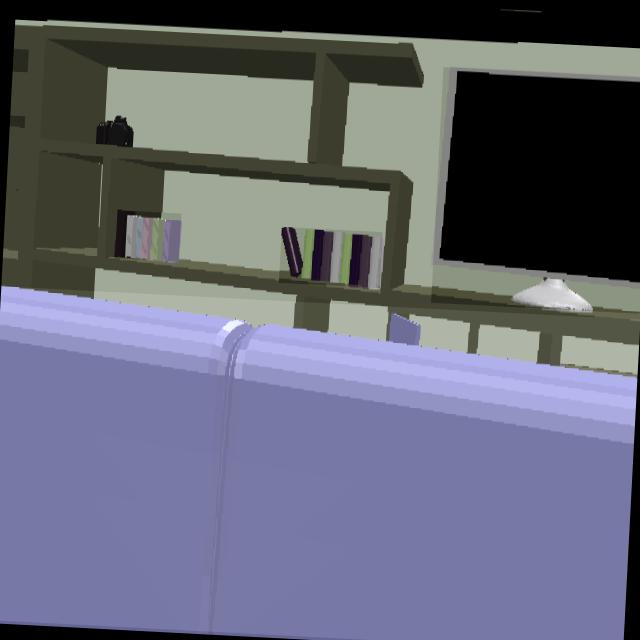book: (282, 228, 382, 287), (116, 210, 180, 261)
bookshelf: (2, 27, 640, 364)
monitor: (433, 68, 640, 311)
sofa: (0, 287, 637, 640)
